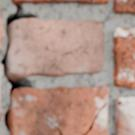brick: (8, 19, 103, 75), (11, 87, 108, 134), (113, 28, 134, 87), (115, 97, 134, 134), (89, 106, 106, 134), (12, 0, 107, 3), (114, 0, 134, 13), (0, 14, 3, 48), (0, 102, 1, 120), (0, 65, 1, 78)
crack: (0, 2, 37, 132), (81, 101, 107, 134), (45, 117, 62, 134), (117, 97, 122, 106)
